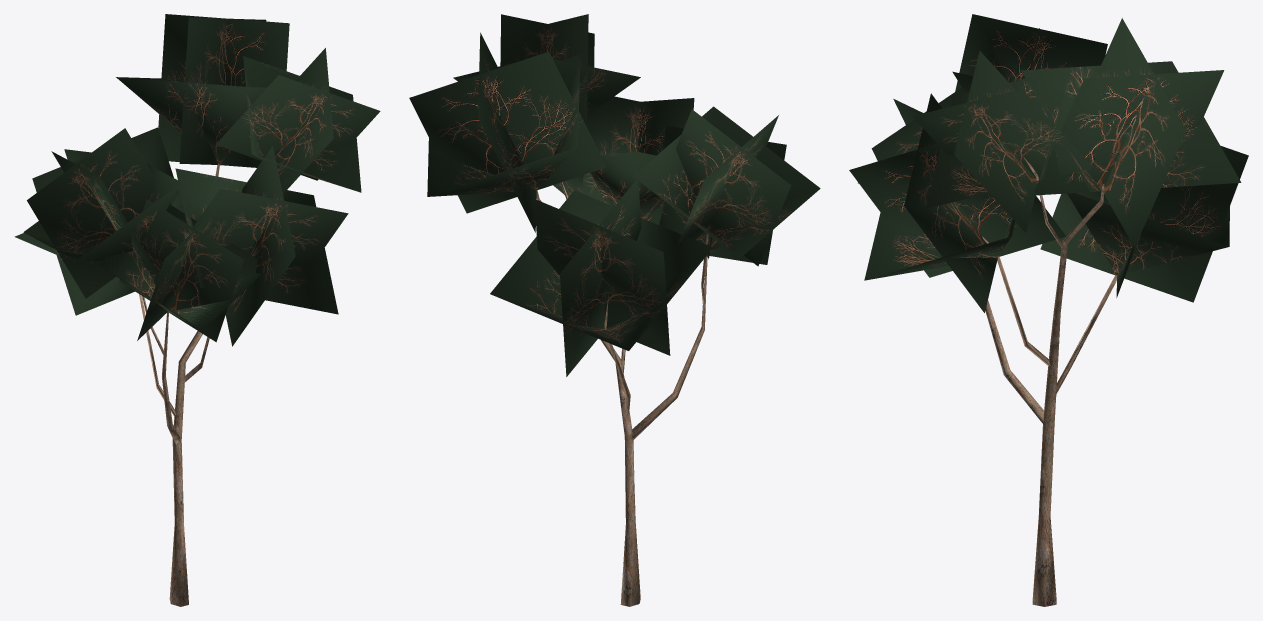
The model's file is decd_ginkgotreebranches_a2_l0.fbx.
The picture shows the model from 3 angles, left to right: view 1: azimuth 30°, elevation 25°; view 2: azimuth 150°, elevation 25°; view 3: azimuth 270°, elevation 25°; orthographic projection. The views are drawn at different scales.
Parts seen in each view (by area): view 1: mesh_node; view 2: mesh_node; view 3: mesh_node.
Boxes of the visible parts, left/top/right/bottom form: mesh_node: left=14, top=14, right=380, bottom=606; mesh_node: left=409, top=14, right=820, bottom=606; mesh_node: left=849, top=14, right=1248, bottom=606.
Bounding box in the file's own units: 1.95 × 3.1 × 1.85.
3 materials, 3 textured.
